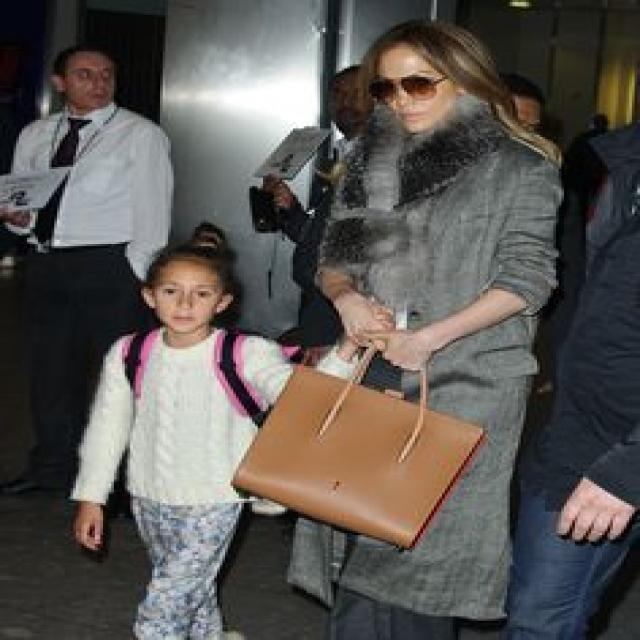handbag: (226, 333, 494, 552)
